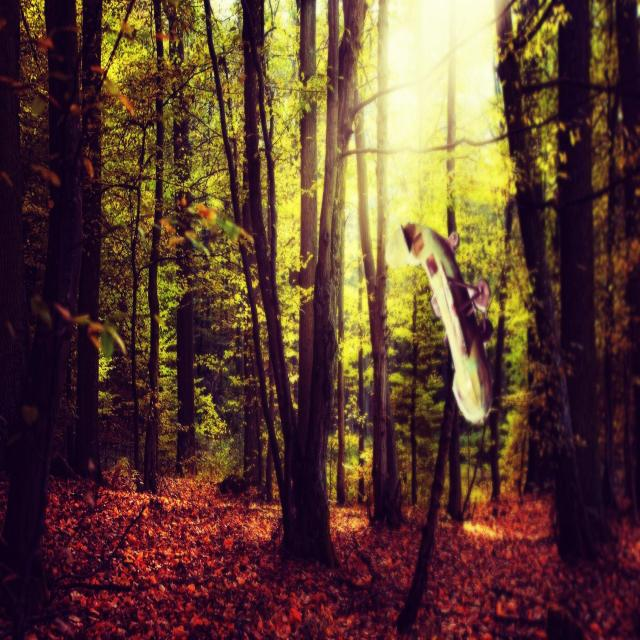airplane: (385, 220, 494, 425)
